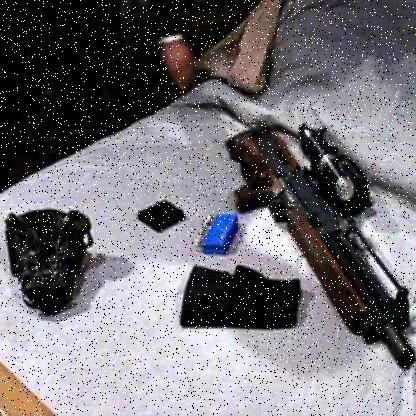rifle: (219, 114, 415, 364)
